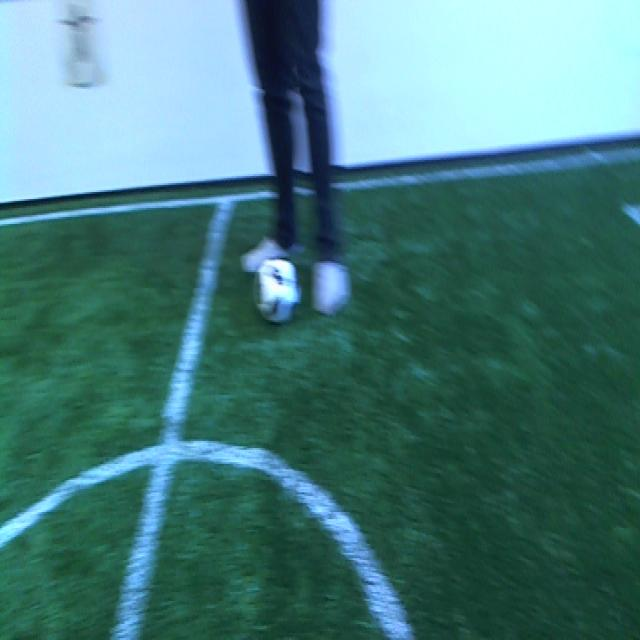ball: (255, 258, 300, 325)
